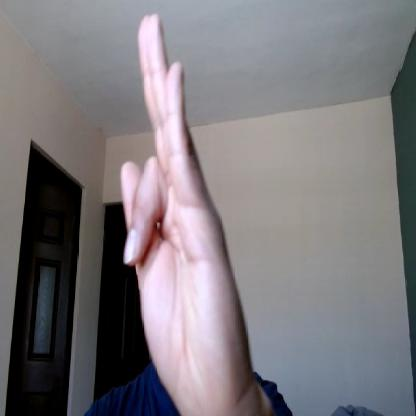F: (118, 11, 251, 415)
